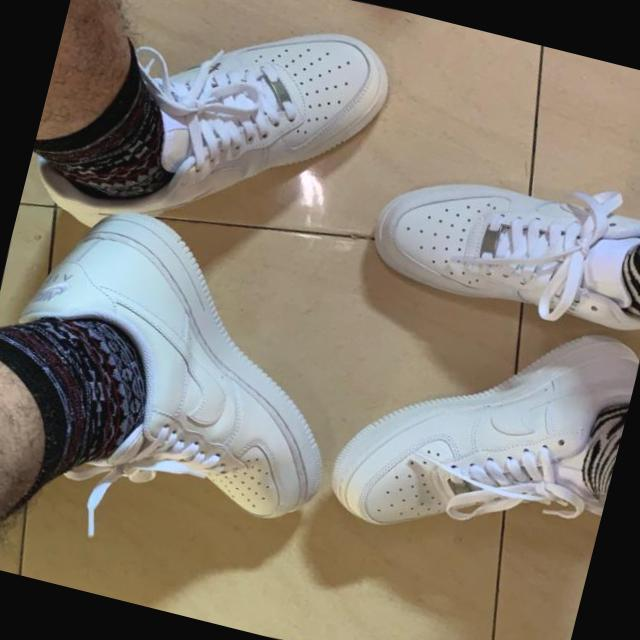nike_original_airforce: (0, 172, 391, 548), (305, 267, 640, 578), (24, 0, 403, 272), (355, 146, 640, 346)
